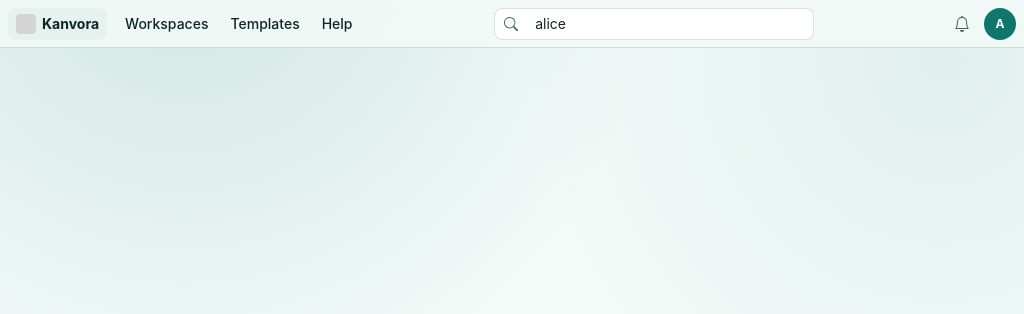
Test case: workspace-scoped navbar directory search › handles failed searches without logging private Axios error configuration
The width and height of the screenshot is (1024, 314).
Focus the field with placeholder "Search..." at (654, 24), box [494,8,814,40]
Wait 250 ms
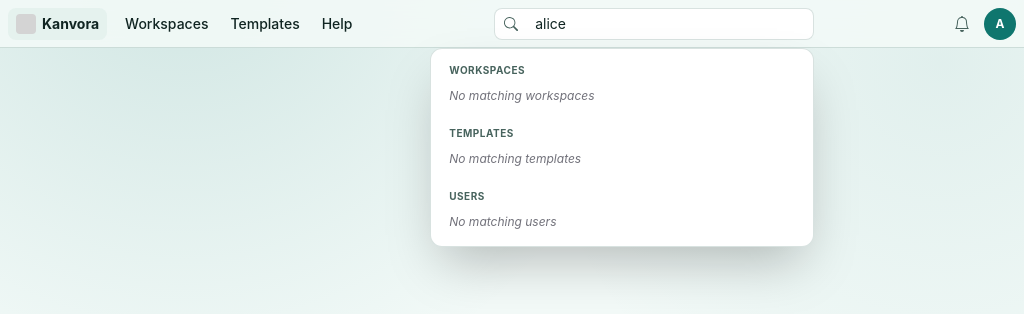
Expected: the text "No matching users" is shown, [449,214,556,228]
